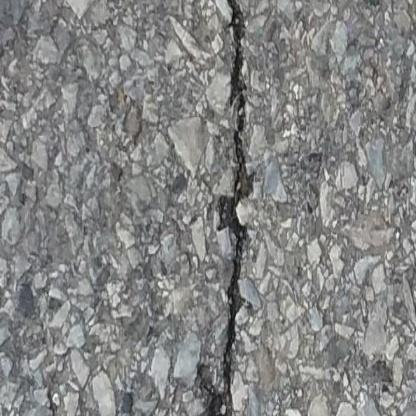Cracks: (188, 0, 262, 416)
